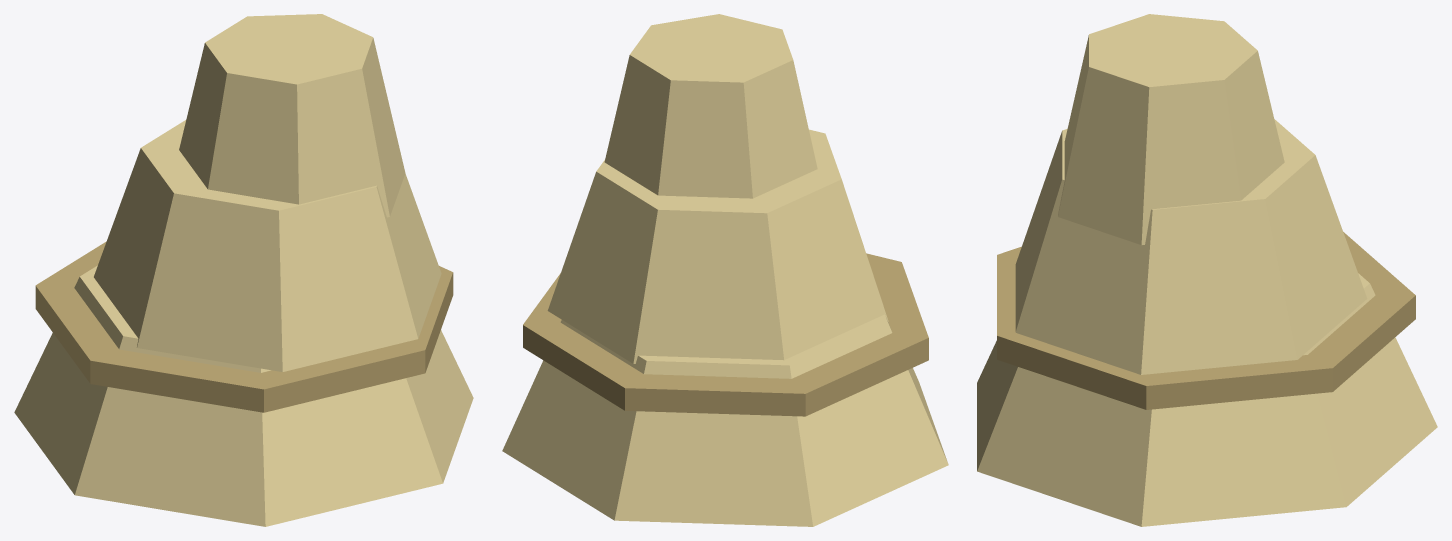
Rendered from hay.glb.
3 renders of one model, left to right at view 1: azimuth 30°, elevation 25°; view 2: azimuth 150°, elevation 25°; view 3: azimuth 270°, elevation 25°, orthographic. The views are drawn at different scales.
Parts seen in each view (by area): view 1: cottage; view 2: cottage; view 3: cottage.
Boxes of the visible parts, box(x1,y1,x2,y2) form: cottage: box(14, 14, 473, 526); cottage: box(502, 14, 948, 526); cottage: box(977, 14, 1437, 526).
Bounding box in the file's own units: 0.7879 × 0.72 × 0.7681.
